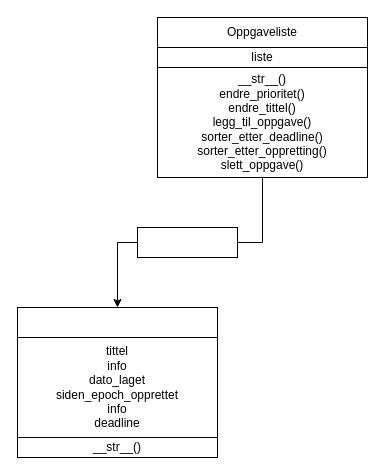
Image size: 385x475. Some labels were removed from this diagram. The centre of each missing label's shape, as x and y in pixels:
"Inne i listen" goes at point (187, 242).
"Oppgave" goes at point (117, 322).
